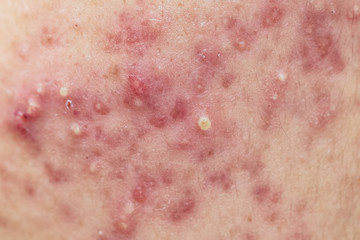acene: (14, 36, 285, 215)
